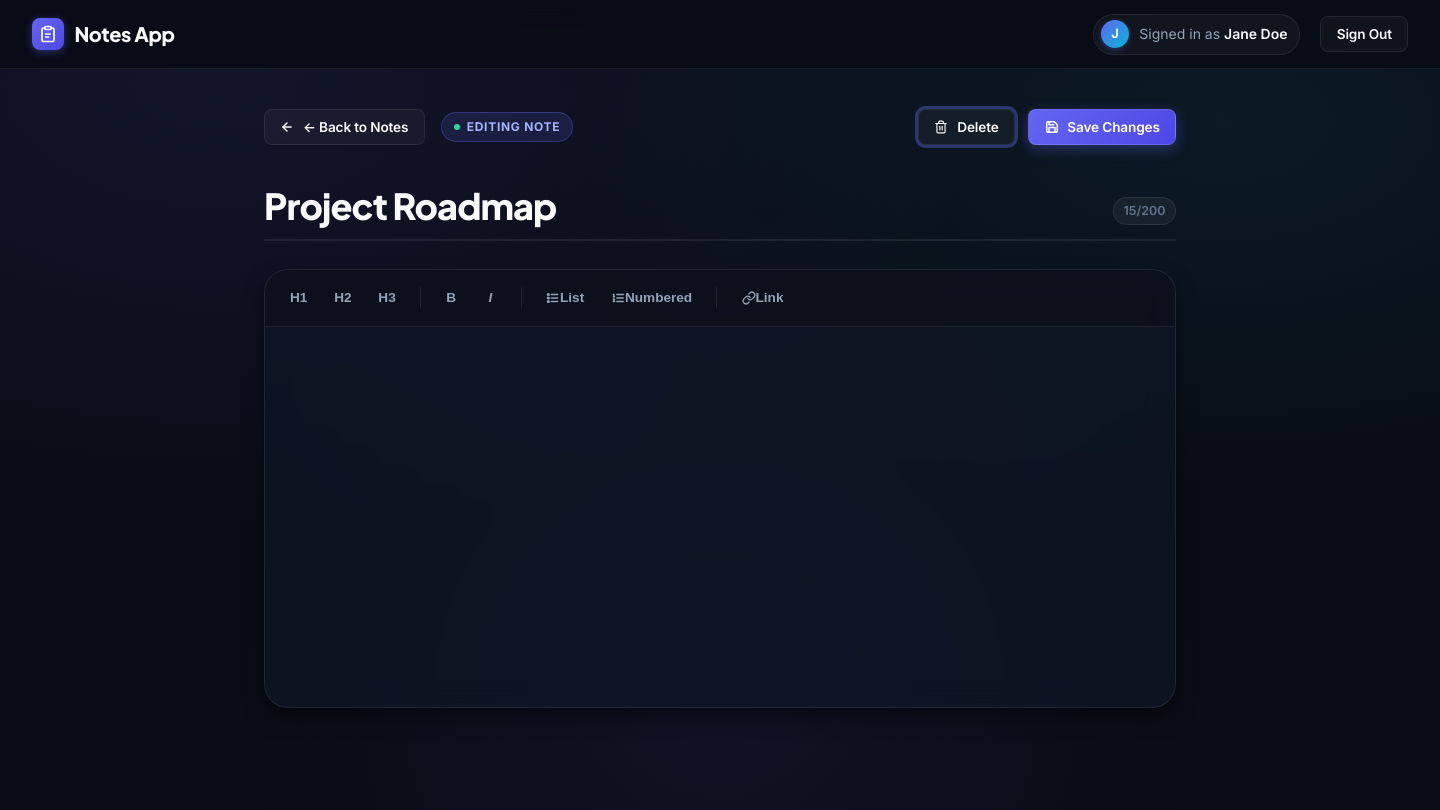
Test: Rich Text Note Editor Feature › restores focus to the delete button when delete modal is cancelled
Click the button with test id "delete-note-button": (967, 127) [918,109,1015,145]
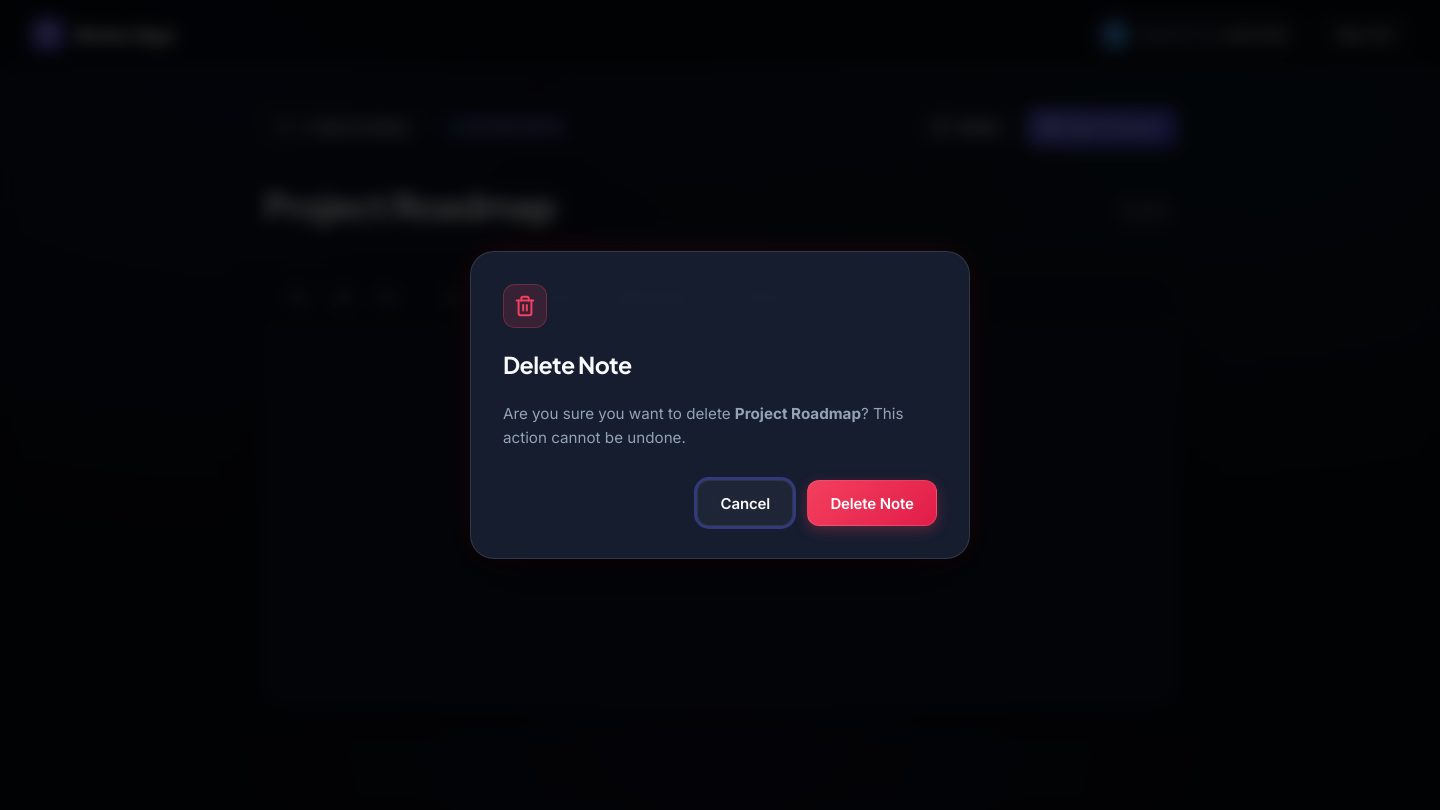
Expected: the dialog with test id "delete-confirm-modal" is shown, [470,251,970,559]
Click the button with test id "cancel-delete-button": (745, 503) [697,480,794,526]
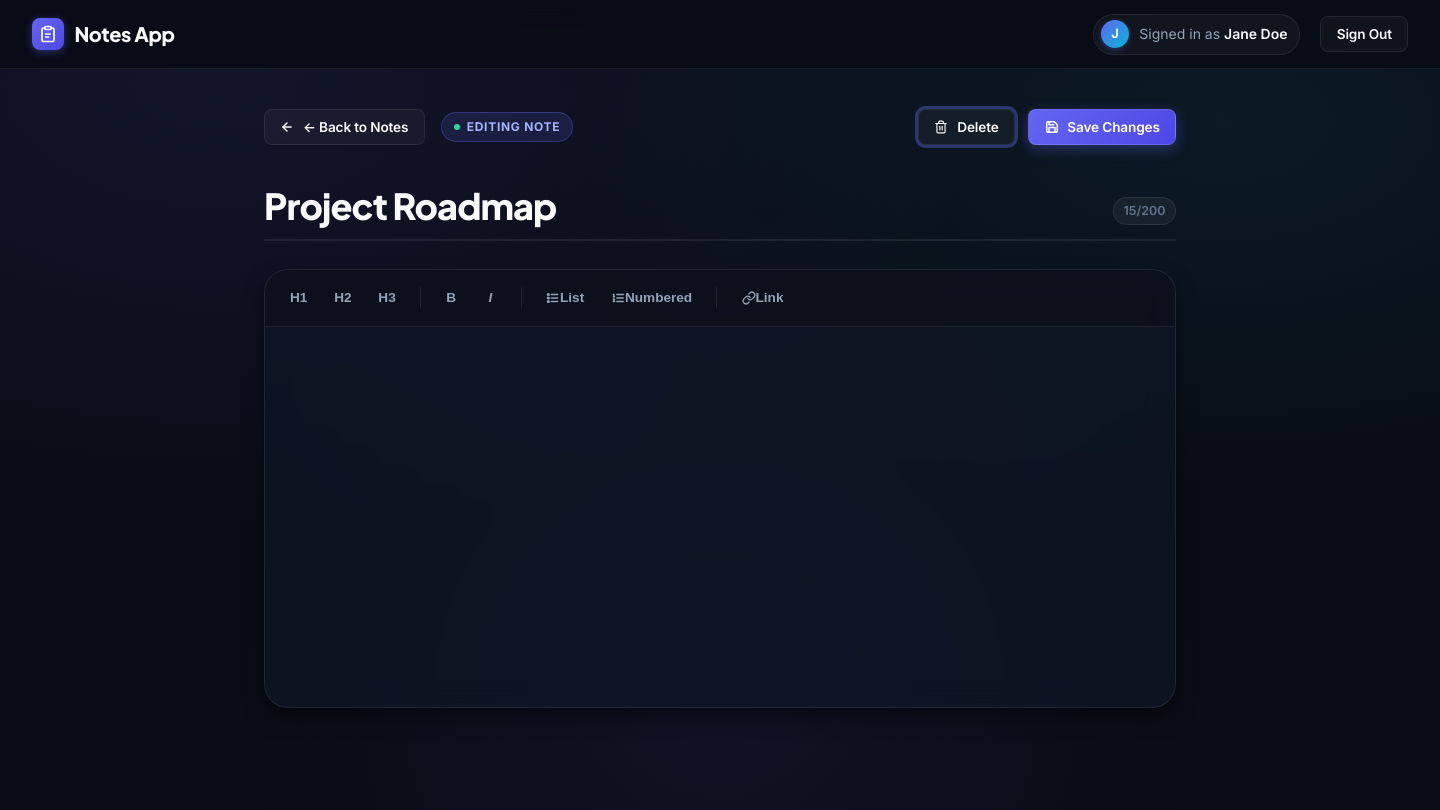
Expected: the dialog with test id "delete-confirm-modal" is gone
